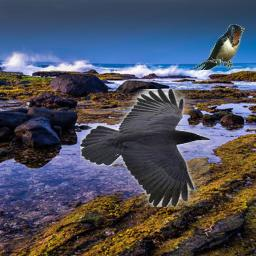Crow: (80, 89, 210, 207)
Swallow: (193, 24, 245, 70)
